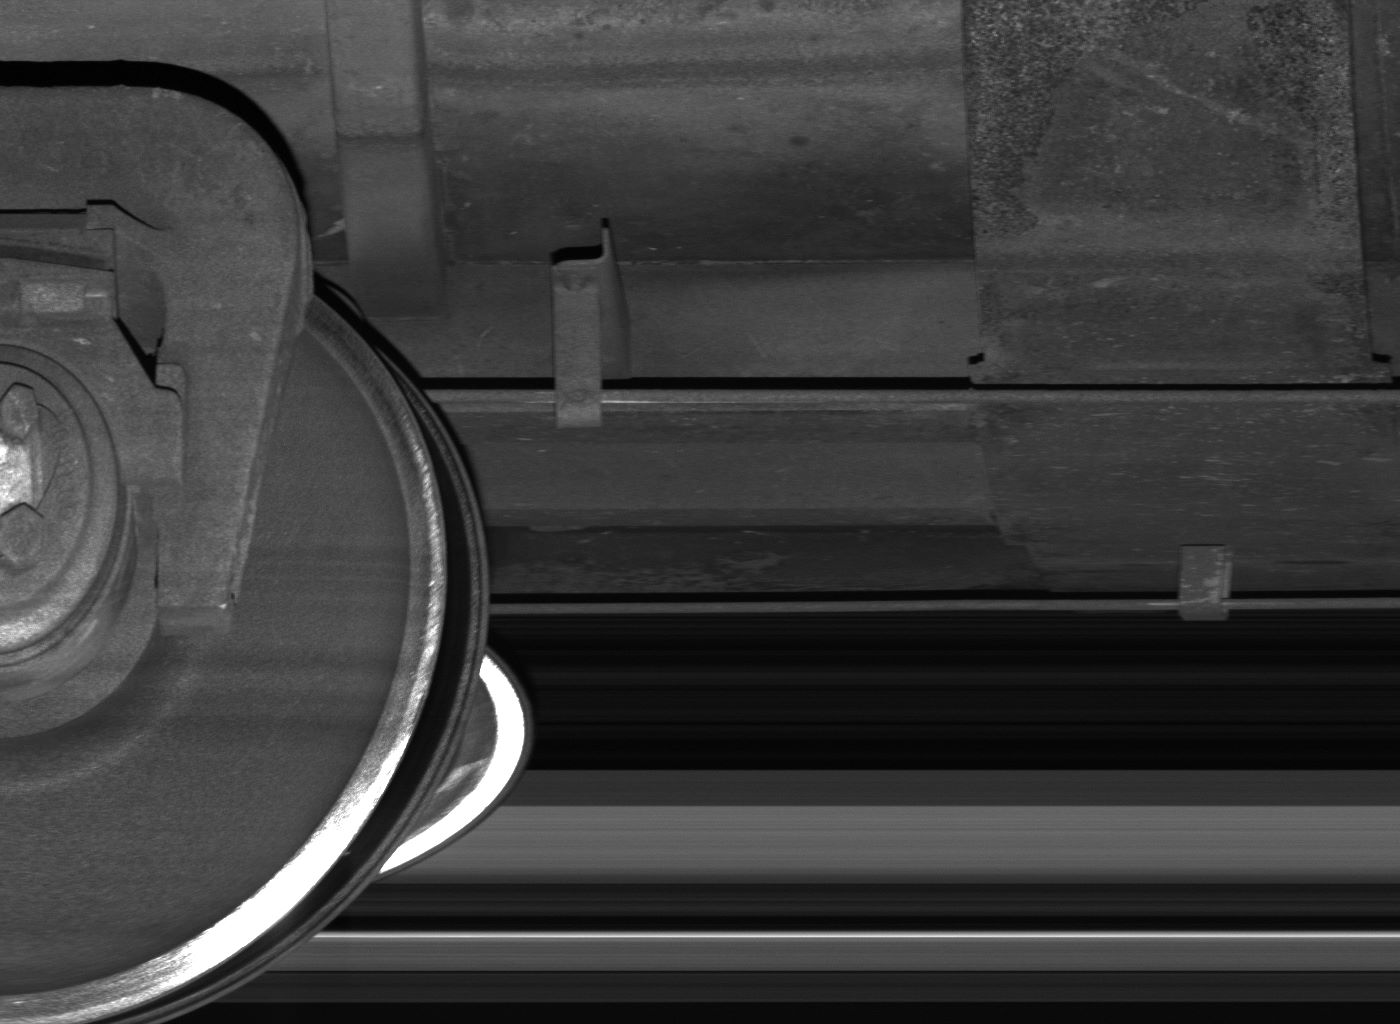normal: (552, 229, 630, 428), (1176, 547, 1235, 623)
